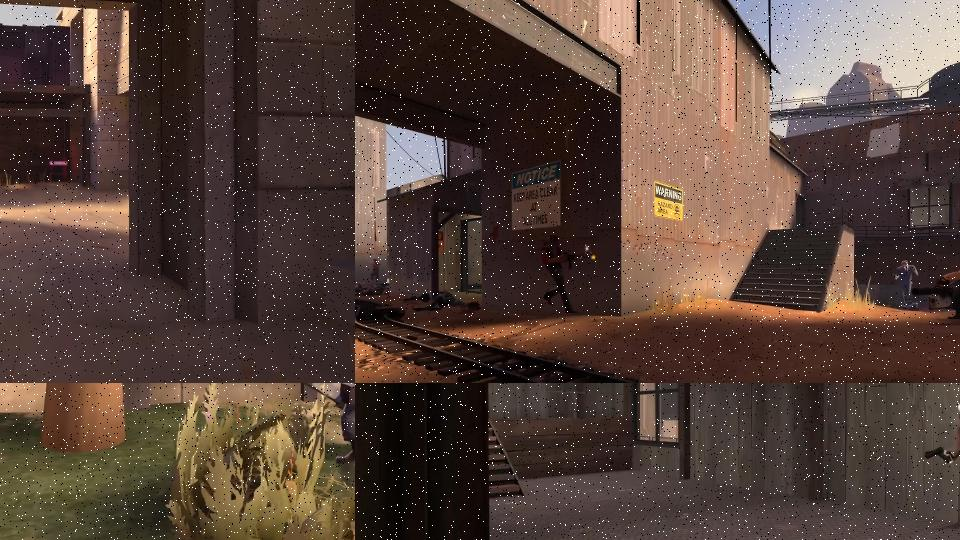Enemy: (532, 231, 602, 319), (280, 383, 355, 462), (922, 398, 960, 540), (912, 243, 960, 328), (887, 258, 922, 315), (366, 257, 383, 288)
